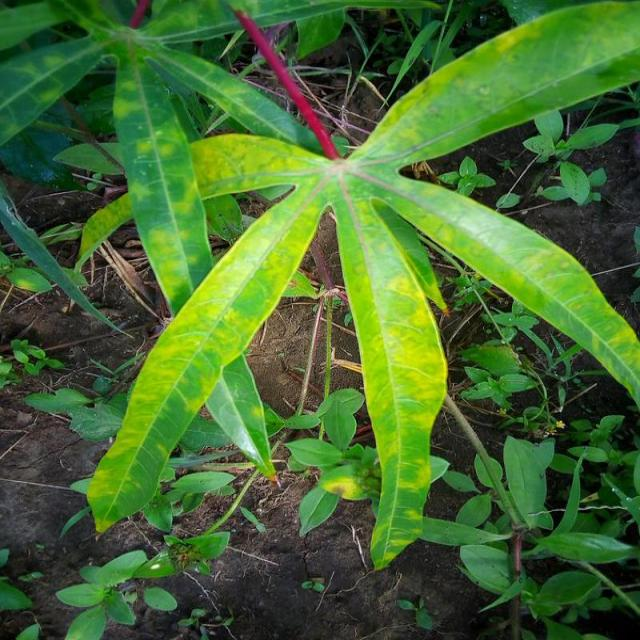cassava leaf: (81, 0, 638, 570)
